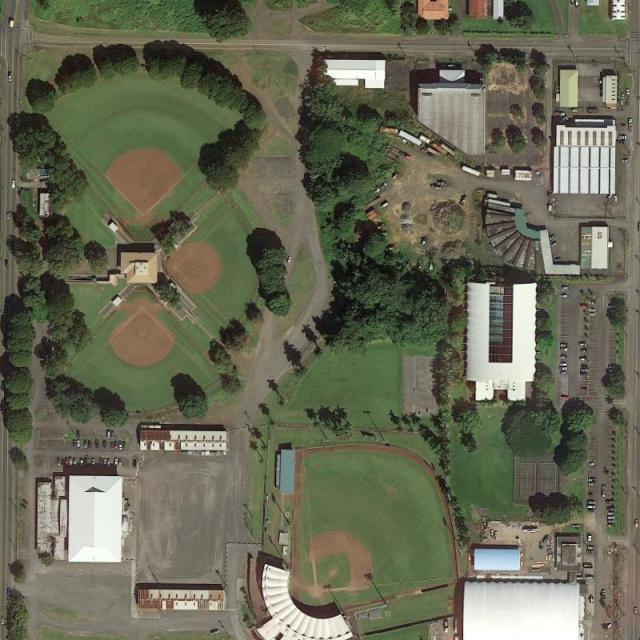vehicle: (560, 115, 571, 124), (379, 182, 388, 192), (372, 188, 381, 197), (210, 629, 221, 636), (550, 241, 559, 249), (549, 233, 557, 242), (444, 620, 449, 634), (380, 202, 390, 209), (569, 108, 580, 114), (586, 109, 599, 114), (606, 506, 616, 512), (554, 112, 566, 117), (579, 303, 589, 309), (10, 19, 15, 30), (287, 256, 293, 265), (606, 499, 615, 505), (5, 259, 10, 269), (114, 458, 119, 468), (99, 458, 104, 468), (118, 440, 123, 450), (560, 396, 570, 401), (617, 135, 627, 140), (614, 195, 619, 205), (602, 486, 606, 498), (622, 158, 630, 164), (11, 180, 16, 189), (114, 441, 119, 450), (95, 439, 100, 448), (73, 440, 78, 449), (7, 588, 12, 597), (634, 520, 639, 529), (493, 531, 498, 540), (607, 511, 616, 516), (581, 349, 590, 354), (560, 355, 569, 360), (560, 362, 569, 367), (8, 71, 12, 82), (103, 458, 107, 469), (578, 343, 589, 347), (6, 213, 11, 221), (80, 459, 85, 467), (73, 458, 78, 466), (111, 430, 116, 438), (76, 430, 81, 438), (490, 530, 495, 538), (581, 387, 589, 392), (609, 368, 617, 373), (602, 590, 606, 600), (561, 343, 569, 348), (560, 366, 568, 371), (589, 308, 597, 313), (92, 458, 96, 467), (84, 458, 88, 467), (88, 440, 92, 449), (65, 457, 69, 466), (84, 440, 88, 449), (1, 617, 5, 626), (580, 365, 589, 369), (579, 358, 588, 362), (626, 89, 630, 98), (588, 312, 597, 316), (608, 515, 615, 520), (590, 301, 597, 306), (133, 459, 137, 467), (69, 458, 73, 466), (57, 458, 61, 466), (110, 442, 114, 450), (107, 430, 111, 438), (634, 607, 638, 615), (589, 462, 597, 466), (589, 478, 597, 482), (589, 482, 597, 486), (608, 520, 616, 524), (562, 286, 570, 290), (561, 294, 569, 298), (107, 458, 110, 468), (103, 440, 107, 447), (77, 441, 81, 448), (575, 1, 579, 8), (609, 524, 616, 528), (119, 458, 122, 467), (62, 458, 65, 467), (608, 366, 617, 369), (587, 506, 596, 509), (123, 442, 126, 450), (454, 636, 460, 640), (588, 501, 596, 504), (587, 510, 595, 513), (580, 369, 588, 372), (638, 222, 640, 233), (580, 373, 587, 376), (570, 1, 574, 5)
